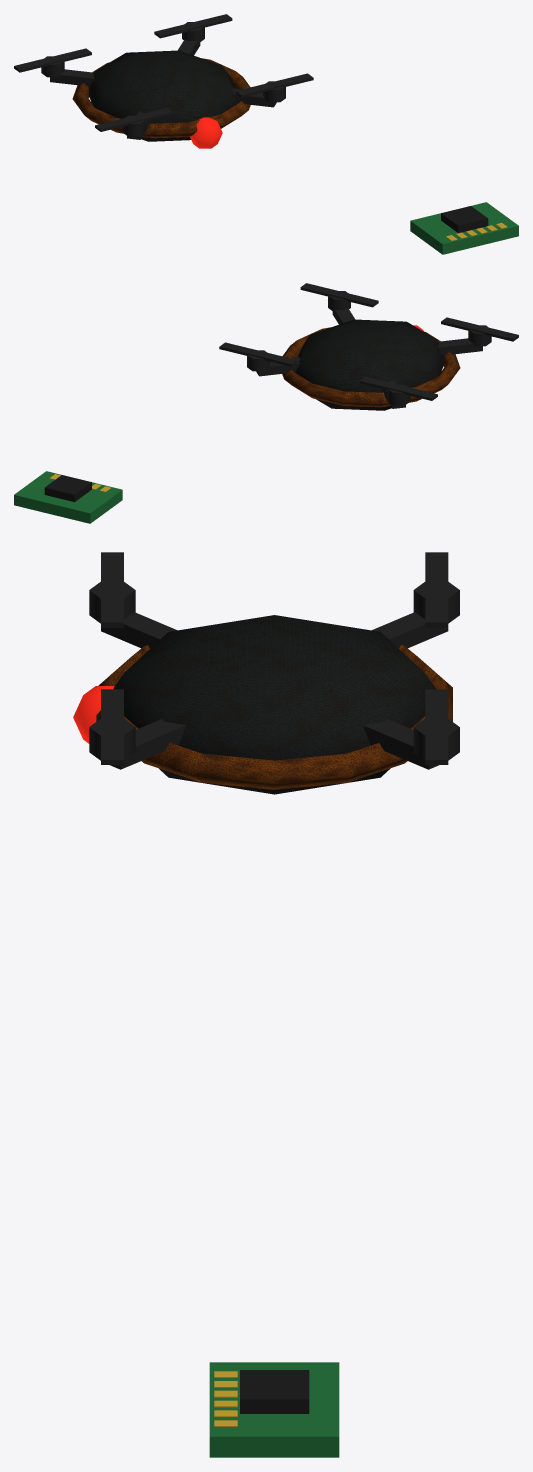
The model's file is ventcrawl.glb.
3 views of the same model, one above another, from view 1: azimuth 30°, elevation 25°; view 2: azimuth 150°, elevation 25°; view 3: azimuth 270°, elevation 25° (orthographic). The views are drawn at different scales.
Parts seen in each view (by area): view 1: drone, chip, rotor_1, rotor_0, rotor_3, rotor_2, eye; view 2: drone, chip, rotor_3, rotor_2, rotor_1, rotor_0; view 3: drone, chip, rotor_2, rotor_0, rotor_3, rotor_1, eye.
Boxes of the visible parts, x1,y1,x2,y2 form: drone: (50, 39, 276, 141); chip: (410, 202, 518, 254); rotor_1: (95, 108, 172, 136); rotor_0: (235, 73, 313, 102); rotor_3: (14, 48, 91, 77); rotor_2: (154, 14, 232, 42); eye: (190, 117, 222, 148); drone: (256, 308, 482, 410); chip: (14, 471, 122, 523); rotor_3: (360, 377, 437, 405); rotor_2: (219, 342, 297, 371); rotor_1: (441, 317, 518, 346); rotor_0: (300, 283, 378, 311); drone: (96, 612, 452, 794); chip: (209, 1362, 339, 1457); rotor_2: (413, 689, 459, 764); rotor_0: (89, 689, 135, 764); rotor_3: (413, 552, 459, 627); rotor_1: (89, 552, 135, 627); eye: (73, 686, 114, 743).
Size of the model in its own units: 2.22 by 1.16 by 0.835.
Materials: 7 (2 with a texture image).
